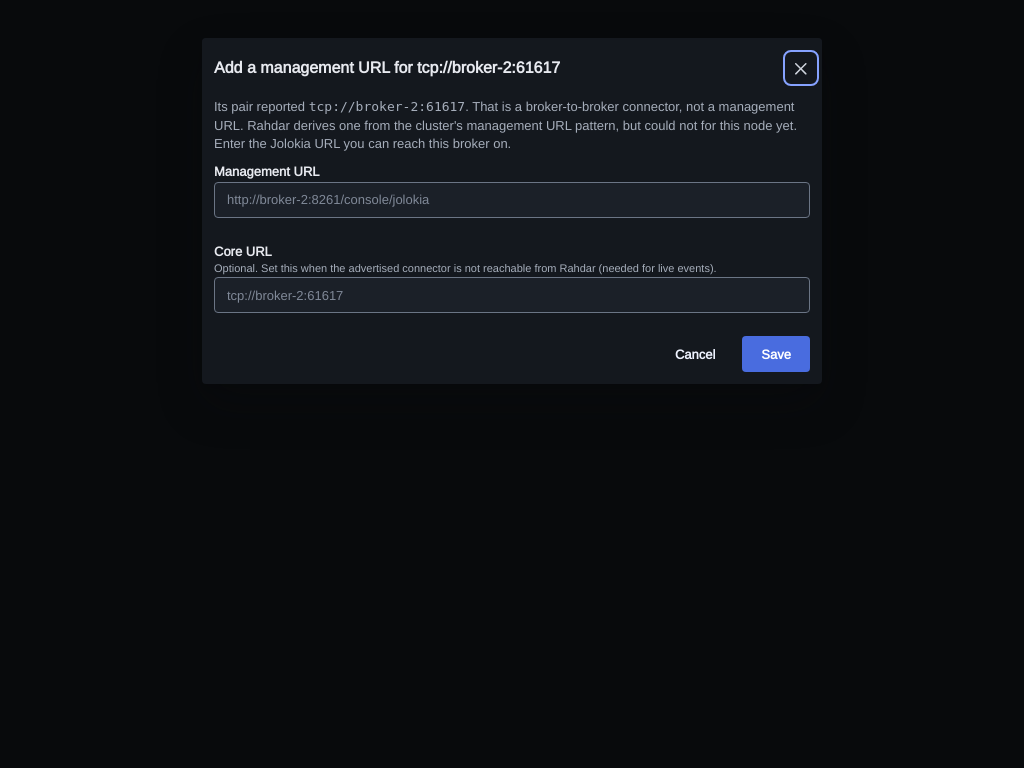
Test case: AddManagementUrl › states why the broker refused the URL and stays open
Type "http://nowhere" into the field labelled "Management URL".
click(512, 200); type("http://nowhere")  # box [214,182,810,218]
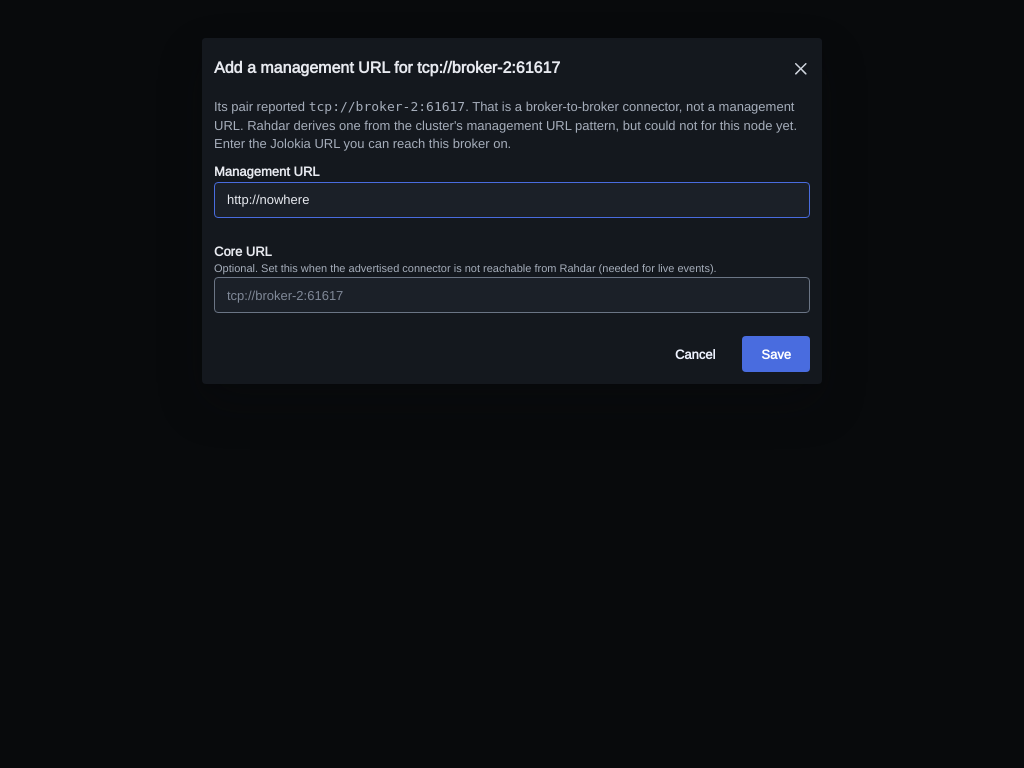
Click the button "Save".
click(776, 354)  # box [742,336,810,372]
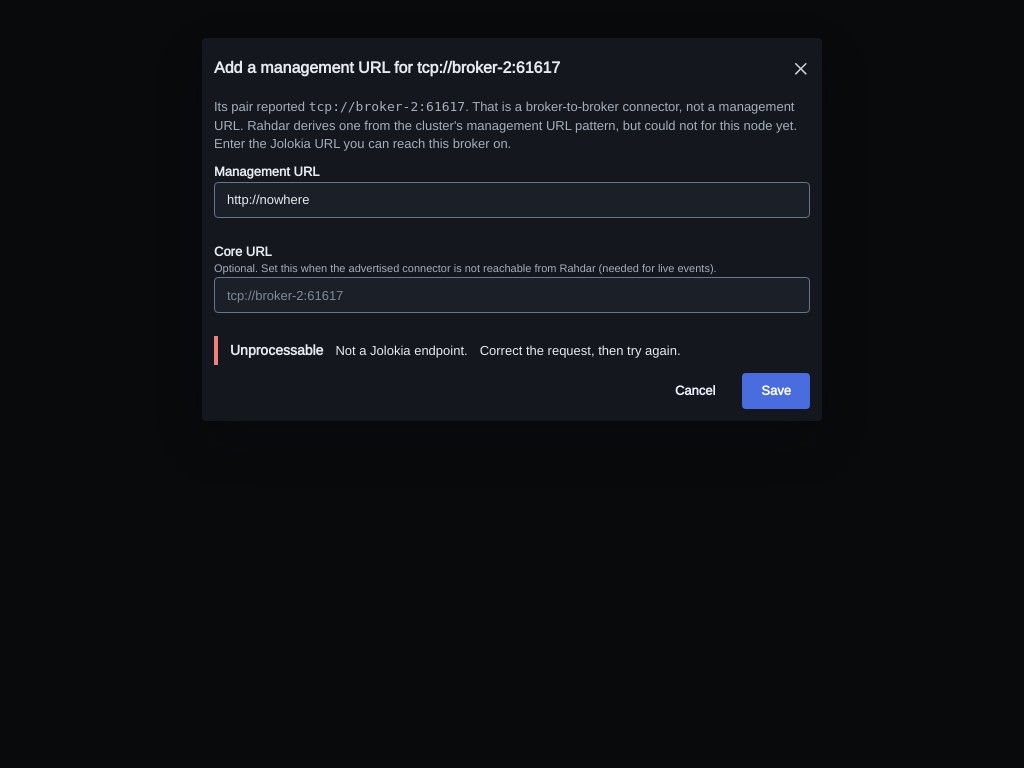
Check: the message shows "Not a Jolokia endpoint.", box [335,342,468,359]
